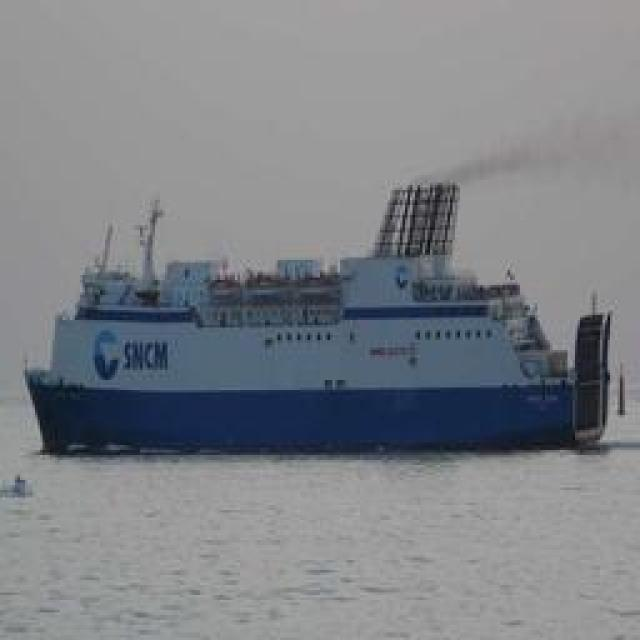CIV_Ship: (28, 215, 612, 453)
